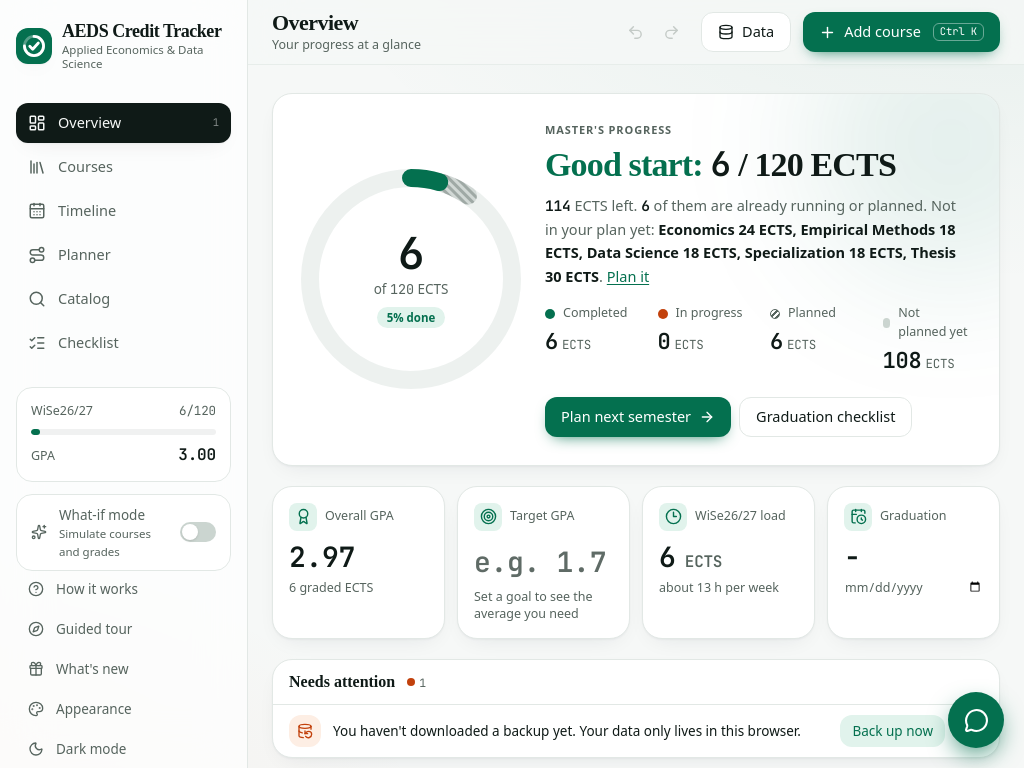
Test: AEDS Assistant › shows errors from the server in the chat
Click the button named "Open AEDS AI Assistant chat" at point(976, 720), box [948,692,1004,748]
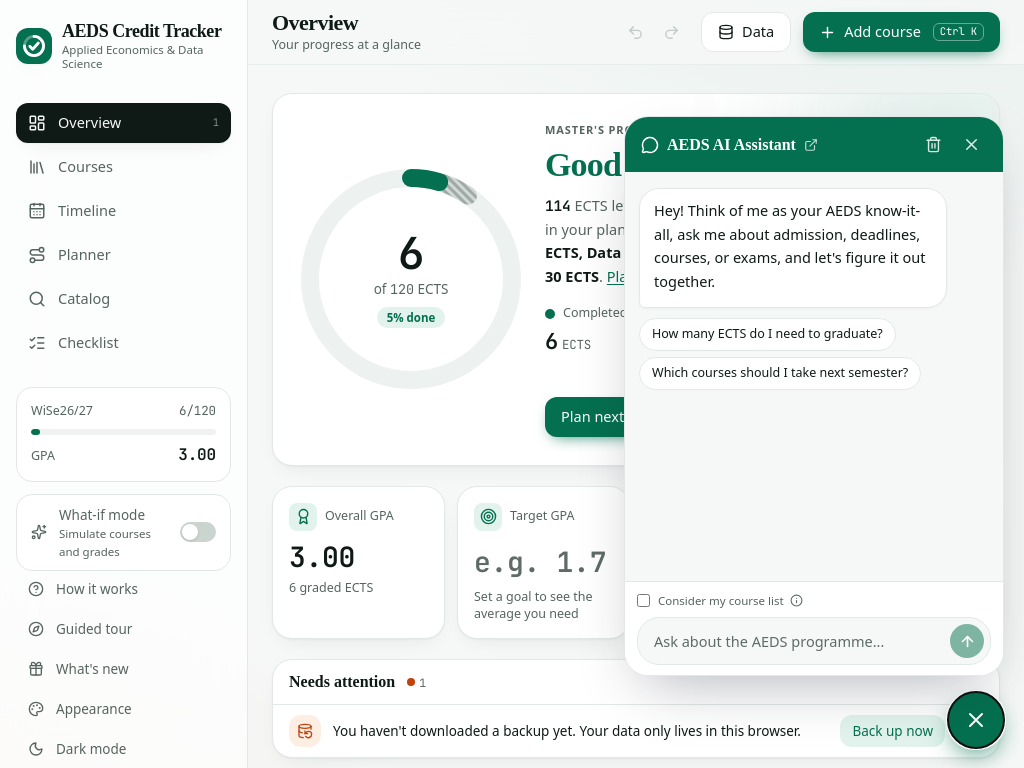
Type "Hi" into the text box with placeholder "Ask about the AEDS programme..." at point(799, 642), box [654,626,944,658]
Then press Enter
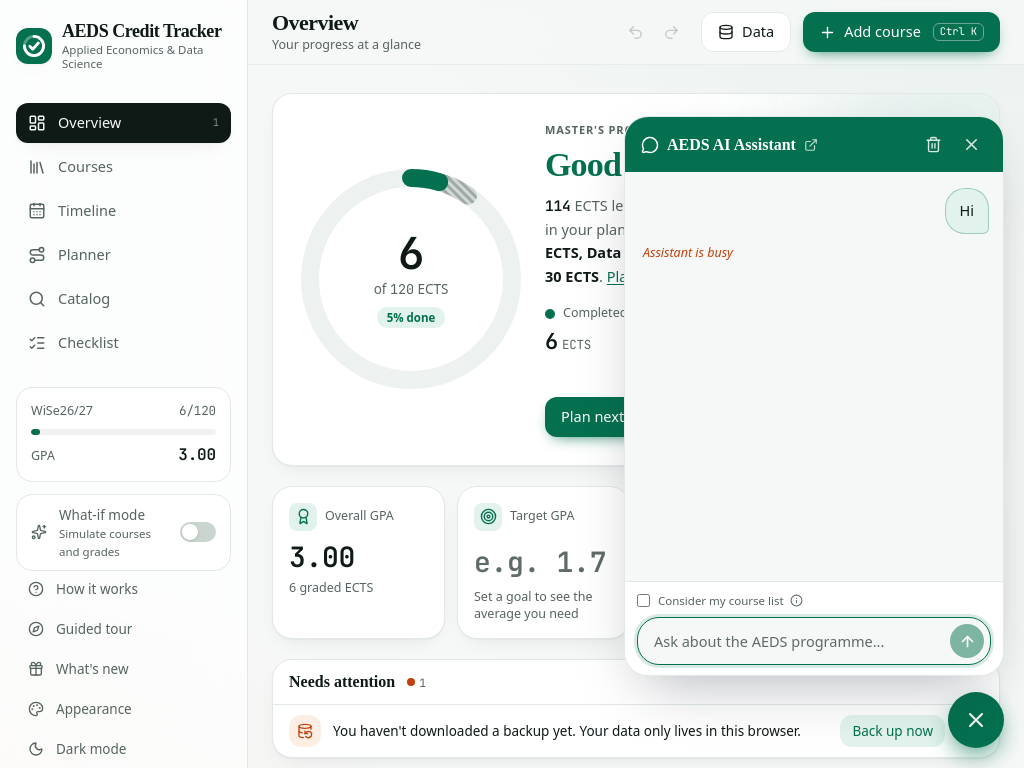
Check: the text "Assistant is busy" is shown, box [639,244,737,262]
